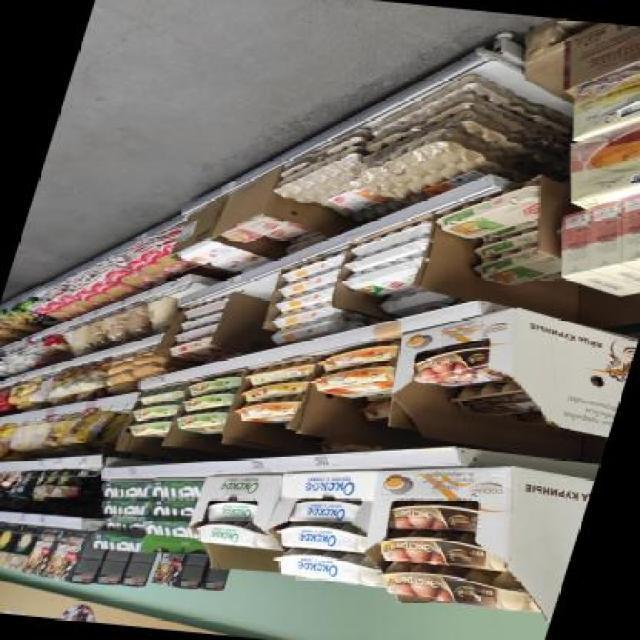egg: (371, 558, 557, 614), (371, 524, 518, 573), (266, 548, 392, 590), (272, 518, 374, 554), (192, 518, 274, 550), (290, 494, 362, 528), (204, 498, 262, 526)
